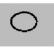no answer: (8, 10, 40, 34)
